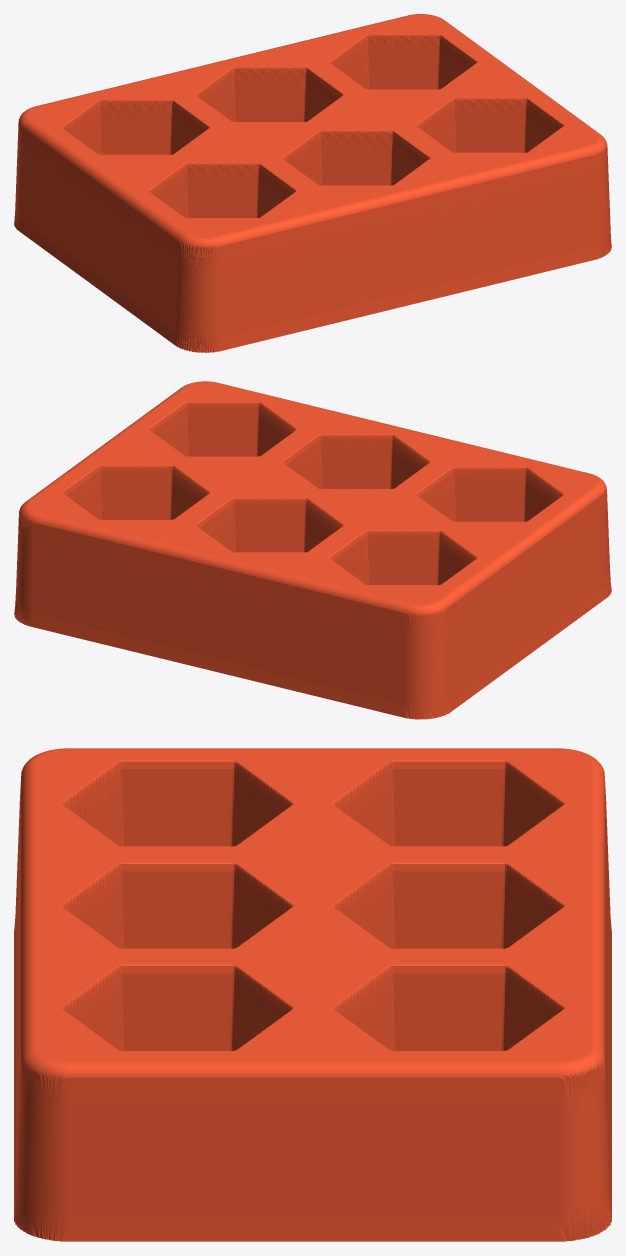
File: mold.glb
3 renders of one model, top to bottom at view 1: azimuth 30°, elevation 25°; view 2: azimuth 150°, elevation 25°; view 3: azimuth 270°, elevation 25°, orthographic. The views are drawn at different scales.
Parts seen in each view (by area): view 1: geometry_0; view 2: geometry_0; view 3: geometry_0.
Part boxes in pixels (x1,y1,x2,y2): geometry_0: (14, 14, 611, 352); geometry_0: (14, 381, 611, 719); geometry_0: (14, 748, 611, 1241).
Bounding box in the file's own units: 0.1301 × 0.0314 × 0.0996.
